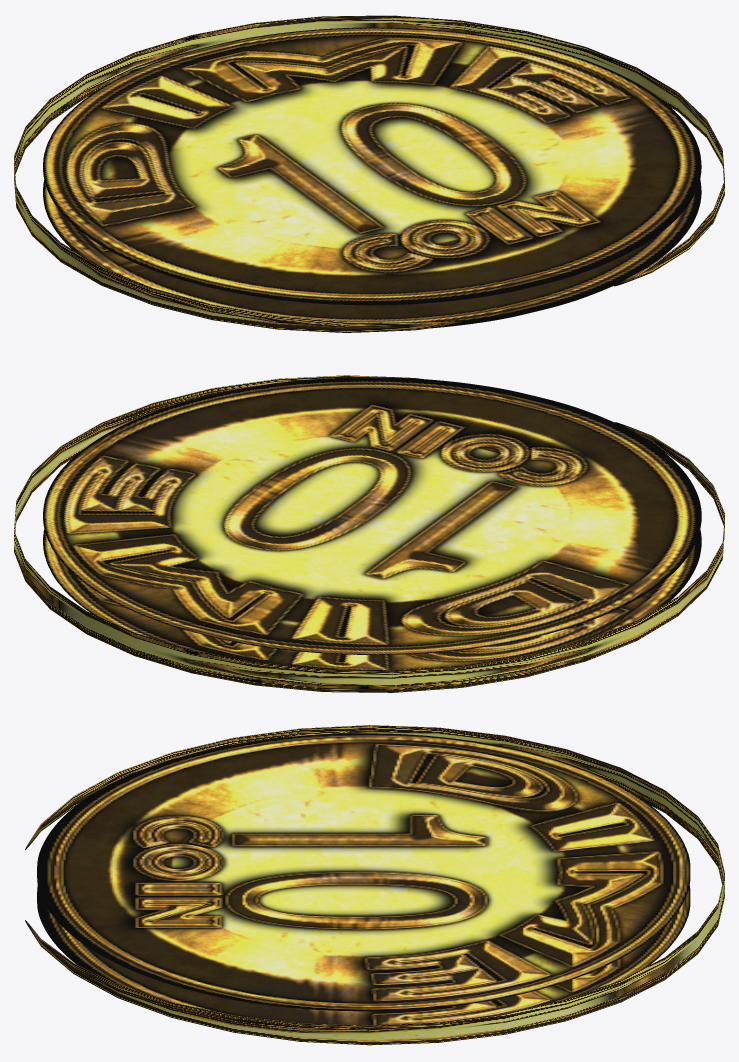
The model's file is Dime.fbx.
3 views of the same model, one above another, from view 1: azimuth 30°, elevation 25°; view 2: azimuth 150°, elevation 25°; view 3: azimuth 270°, elevation 25° (orthographic).
Visible parts, largest first — view 1: Cylinder; view 2: Cylinder; view 3: Cylinder.
Part boxes in pixels (x1,y1,x2,y2): Cylinder: (14, 15, 724, 332); Cylinder: (14, 375, 724, 692); Cylinder: (25, 725, 724, 1045).
Size of the model in its own units: 100 by 3.93 by 100.
